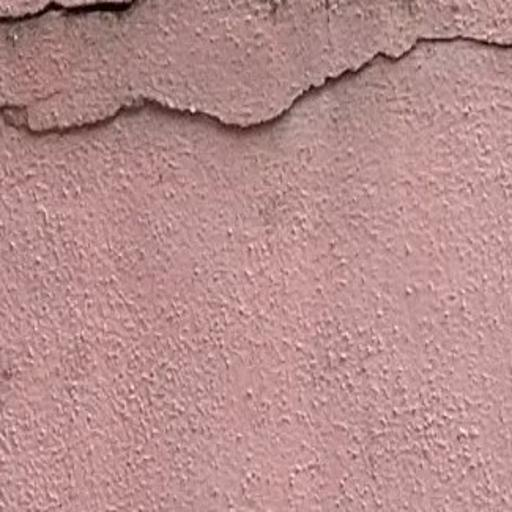major_crack: (0, 28, 512, 141), (0, 0, 155, 26)
